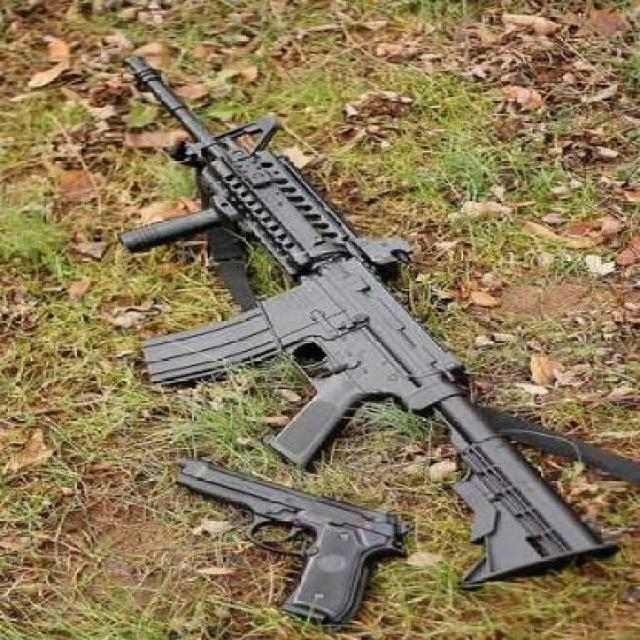weapon: (125, 55, 617, 588), (178, 458, 400, 623)
